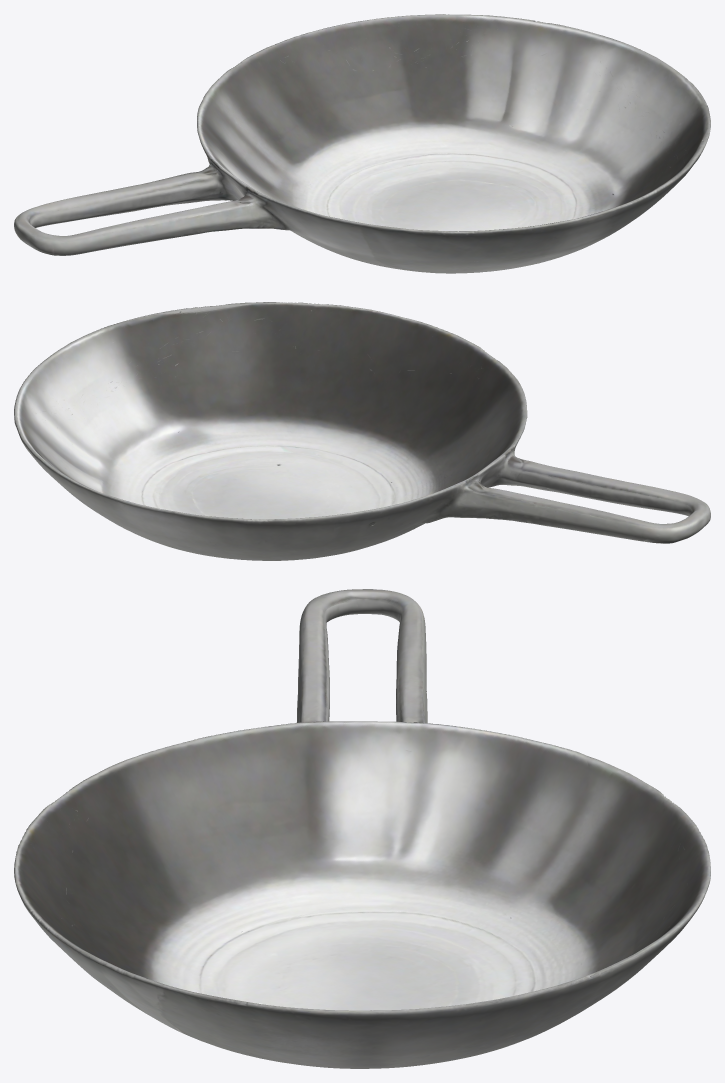
File: plate_correct_origin.glb
The picture shows the model from 3 angles, top to bottom: view 1: azimuth 30°, elevation 25°; view 2: azimuth 150°, elevation 25°; view 3: azimuth 270°, elevation 25°; orthographic projection. The views are drawn at different scales.
Parts seen in each view (by area): view 1: Mesh_0; view 2: Mesh_0; view 3: Mesh_0.
Part boxes in pixels (x1,y1,x2,y2): Mesh_0: [14, 14, 710, 273]; Mesh_0: [14, 302, 710, 560]; Mesh_0: [14, 589, 710, 1068].
Bounding box in the file's own units: 2 × 0.2752 × 1.38.
Materials: 1 (1 with a texture image).
